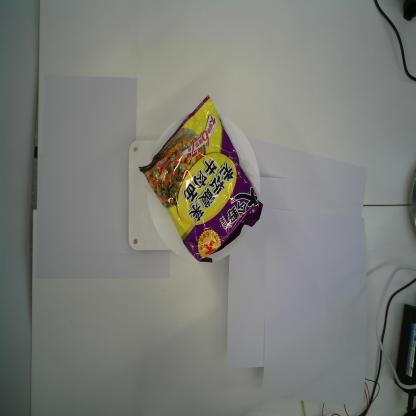Instant Noodles: (139, 96, 263, 264)
